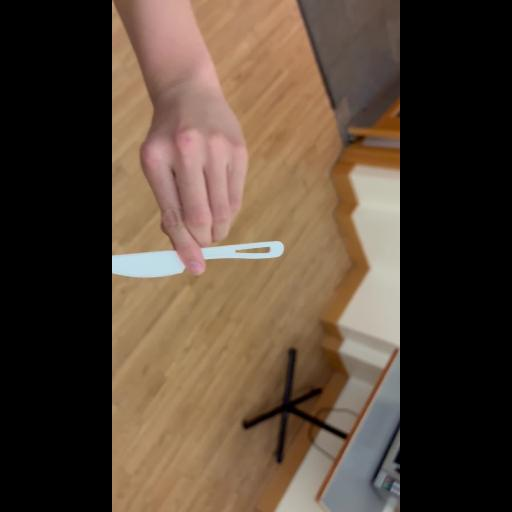utensil: (112, 222, 298, 300)
